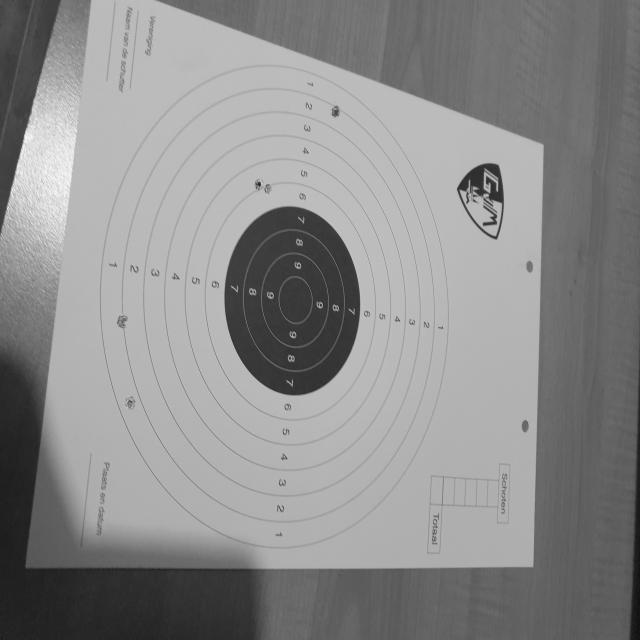1: (124, 395, 136, 411)
2: (116, 314, 128, 329), (331, 104, 340, 118)
6: (254, 178, 264, 192), (264, 184, 272, 196)
Target: (100, 61, 450, 551)
black_contour: (224, 206, 360, 396)
